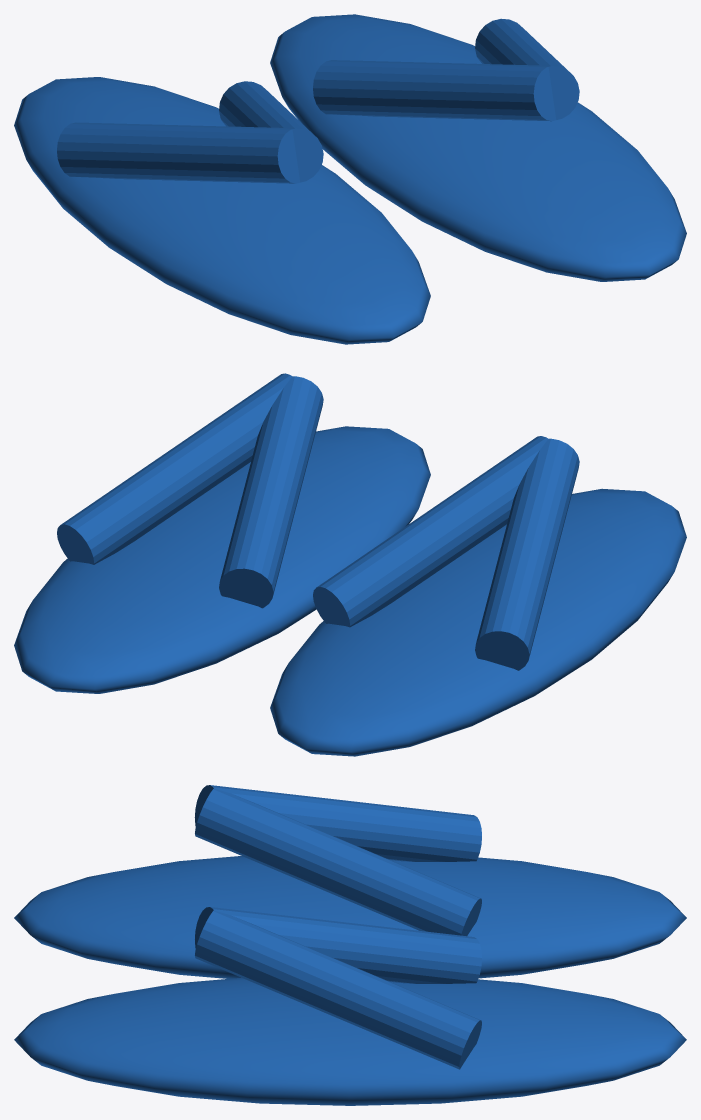
File: hiperreal.glb
3 renders of one model, top to bottom at view 1: azimuth 30°, elevation 25°; view 2: azimuth 150°, elevation 25°; view 3: azimuth 270°, elevation 25°, orthographic. The views are drawn at different scales.
Visible parts, largest first — view 1: Flip-flop sole, Flip-flop sole.001, Sandal strap, Sandal strap.002, Sandal strap.001, Sandal strap.003; view 2: Flip-flop sole, Flip-flop sole.001, Sandal strap.003, Sandal strap.001, Sandal strap.002, Sandal strap; view 3: Flip-flop sole.001, Flip-flop sole, Sandal strap.003, Sandal strap.001, Sandal strap.002, Sandal strap.
Part boxes in pixels (x1,y1,x2,y2): Flip-flop sole: (14,77,430,344); Flip-flop sole.001: (270,14,686,281); Sandal strap: (57,122,300,183); Sandal strap.002: (313,60,556,121); Sandal strap.001: (219,81,323,182); Sandal strap.003: (475,18,579,119); Flip-flop sole: (270,488,686,756); Flip-flop sole.001: (14,426,430,693); Sandal strap.003: (57,373,292,564); Sandal strap.001: (313,436,547,627); Sandal strap.002: (219,376,323,608); Sandal strap: (475,438,579,670); Flip-flop sole.001: (14,977,686,1105); Flip-flop sole: (14,856,686,978); Sandal strap.003: (195,910,481,1069); Sandal strap.001: (195,788,481,936); Sandal strap.002: (195,907,481,983); Sandal strap: (194,785,481,861).
Size of the model in its own units: 0.7667 by 0.2528 by 0.9333.
